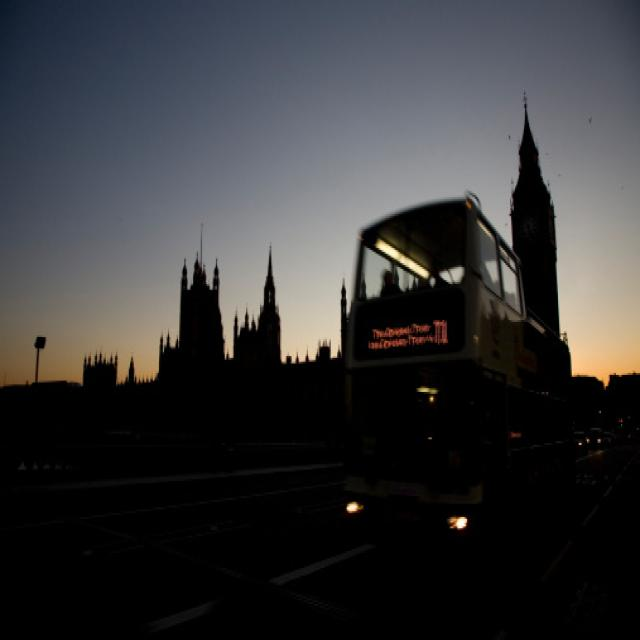Bus: (337, 174, 591, 570)
